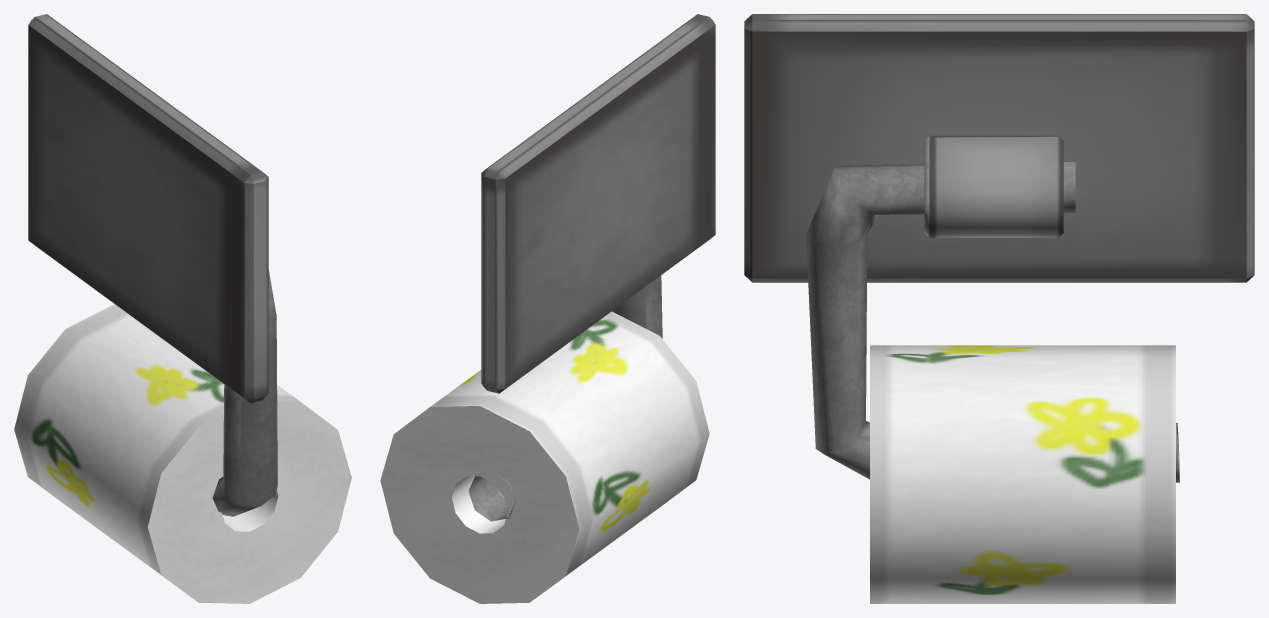
Rendered from ToiletRoll.fbx.
3 views of the same model, side by side, from view 1: azimuth 30°, elevation 25°; view 2: azimuth 150°, elevation 25°; view 3: azimuth 270°, elevation 25° (orthographic). The views are drawn at different scales.
Parts seen in each view (by area): view 1: ToiletRoll; view 2: ToiletRoll; view 3: ToiletRoll.
Part boxes in pixels (bbox=[...]): ToiletRoll: bbox=[14, 14, 351, 603]; ToiletRoll: bbox=[380, 14, 715, 603]; ToiletRoll: bbox=[744, 14, 1254, 603].
Bounding box in the file's own units: 1.34 × 3 × 2.53.
